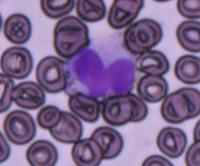M: (61, 36, 137, 99)
